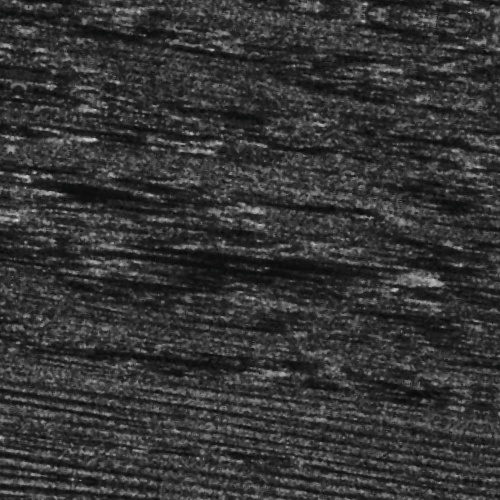object: (189, 289, 314, 300), (372, 252, 445, 265), (58, 17, 131, 26), (356, 192, 429, 201), (475, 104, 500, 129), (258, 364, 321, 369), (204, 139, 257, 144), (155, 151, 208, 156), (19, 211, 50, 218), (366, 265, 397, 270)
shadow: (190, 252, 408, 265), (426, 104, 496, 129), (94, 289, 251, 300), (4, 364, 289, 369), (161, 265, 381, 270), (283, 192, 393, 201), (0, 17, 94, 26), (433, 192, 500, 201), (114, 139, 230, 144), (101, 151, 181, 156), (0, 211, 35, 218), (0, 155, 63, 158)
